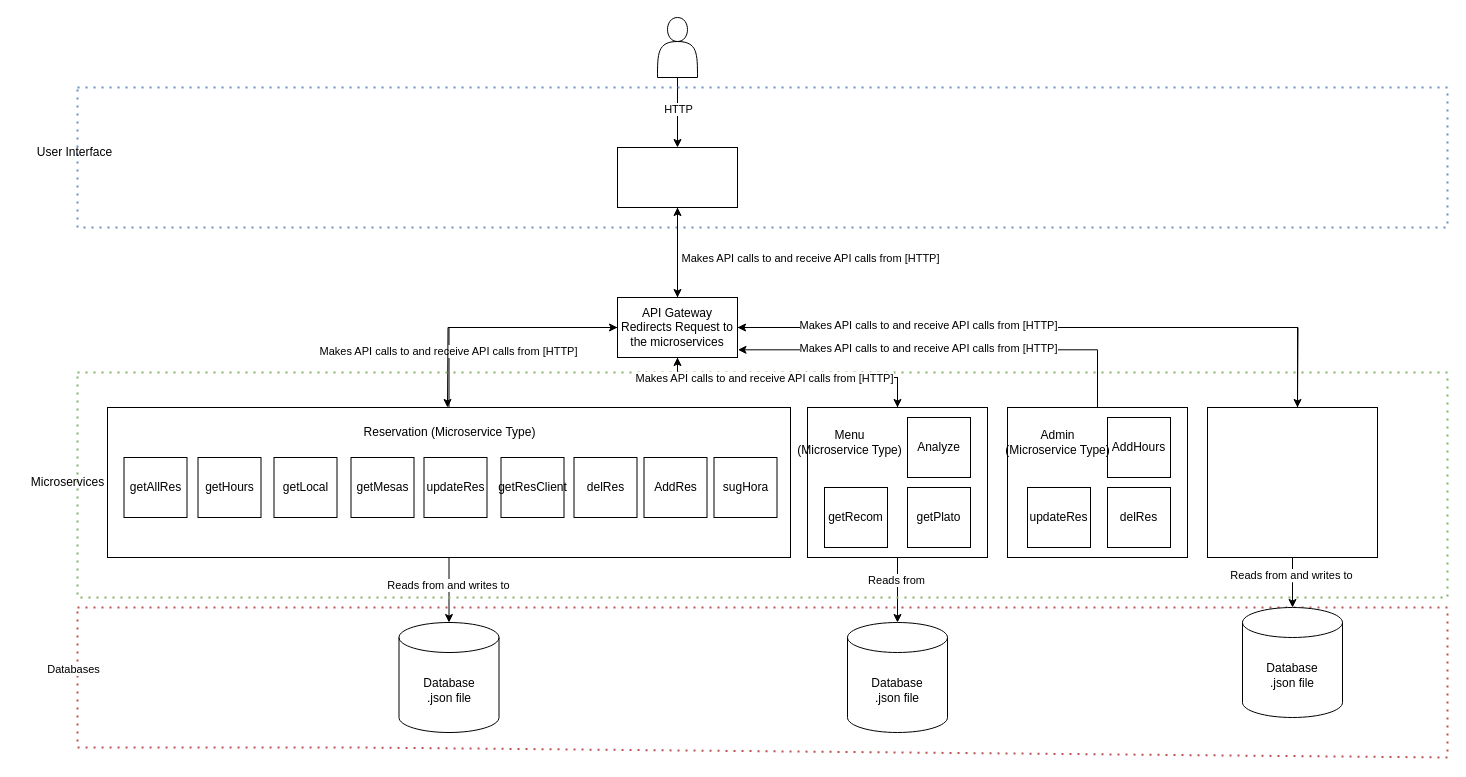
Image size: 1466x777. Some labels were removed from this diagram. Each missing label, with the box of its shape:
Authentication: (1206, 406, 1378, 558)
FRONTEND: (616, 146, 738, 208)
